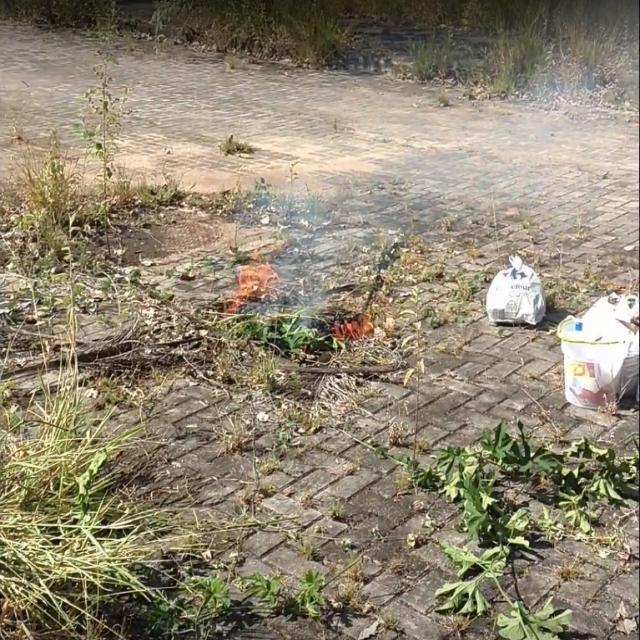Fire: (224, 243, 283, 314), (332, 314, 379, 336)
